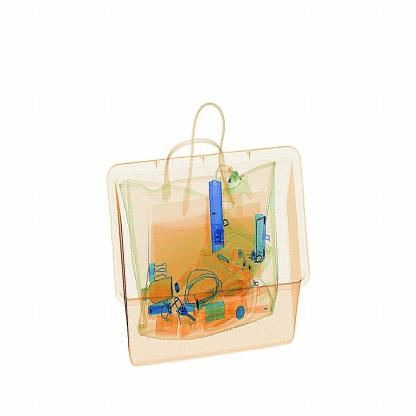pliers: (198, 171, 233, 258)
